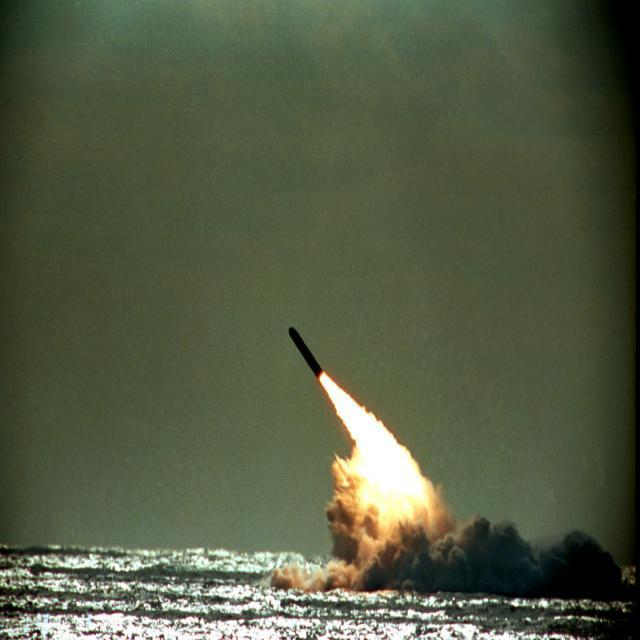Missile: (278, 322, 326, 384)
